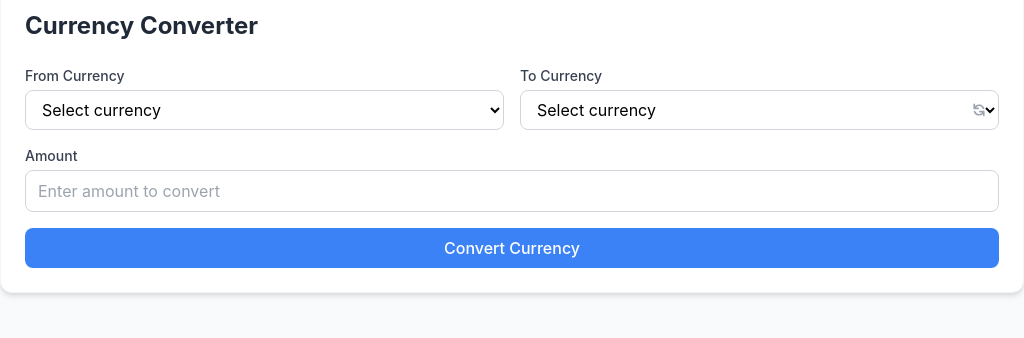
Scenario: ConversionForm › shows validation error for same currency selection
// Select same currency for both fields
Select "USD - US Dollar" in the dropdown labelled "From Currency" at (264, 110), box [25,90,504,130]
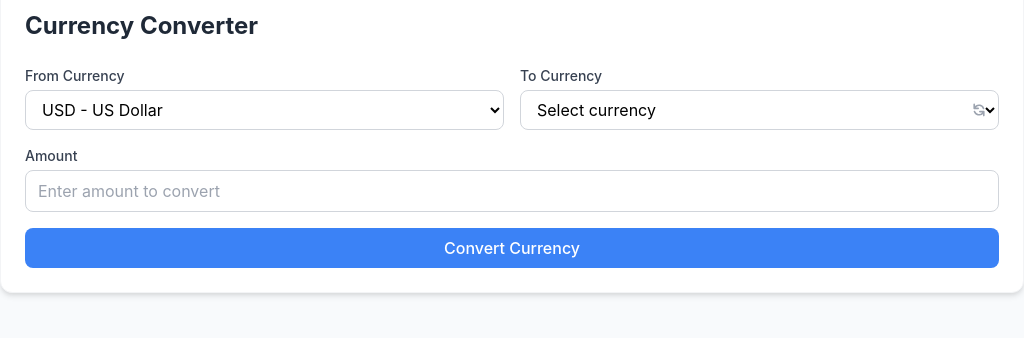
Select "USD - US Dollar" in the dropdown labelled "To Currency" at (760, 110), box [520,90,999,130]
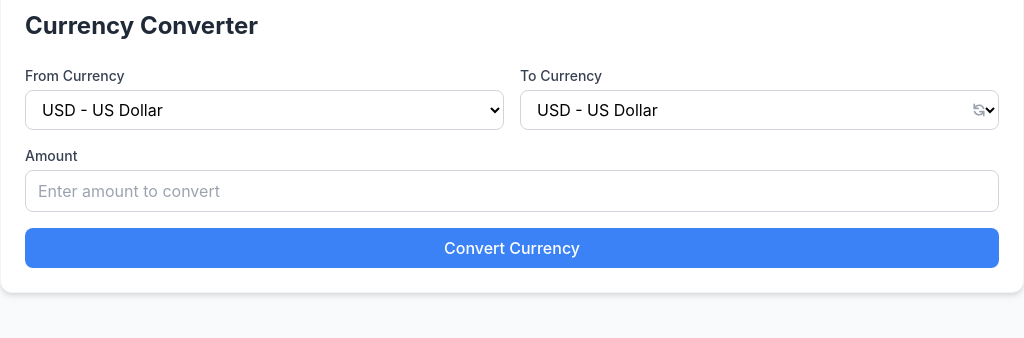
Type "100" into the number field labelled "Amount" at (512, 191), box [25,170,999,212]
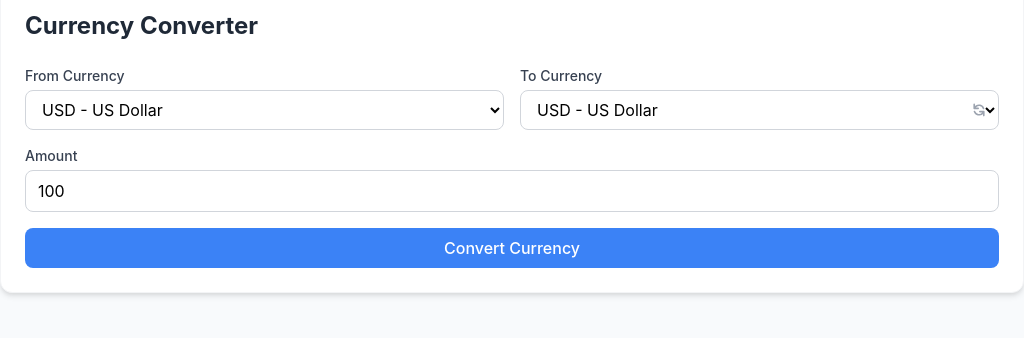
// Submit form
Click the button "Convert Currency" at (512, 248), box [25,228,999,268]
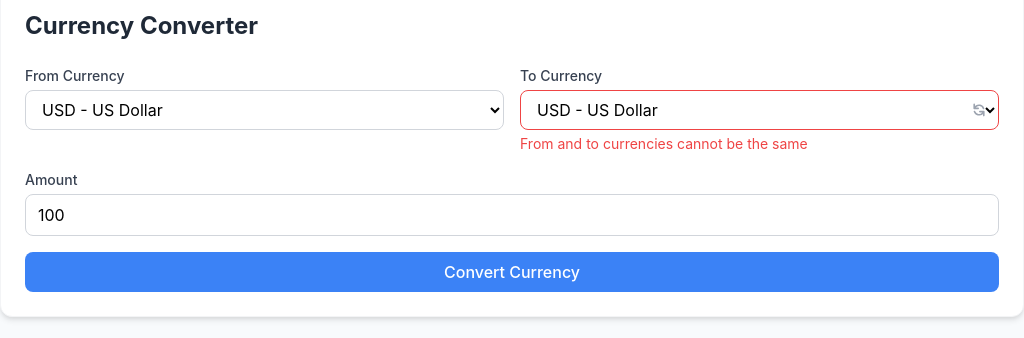
Result: the text "From and to currencies cannot be the same" is shown at [520,135,808,152]
